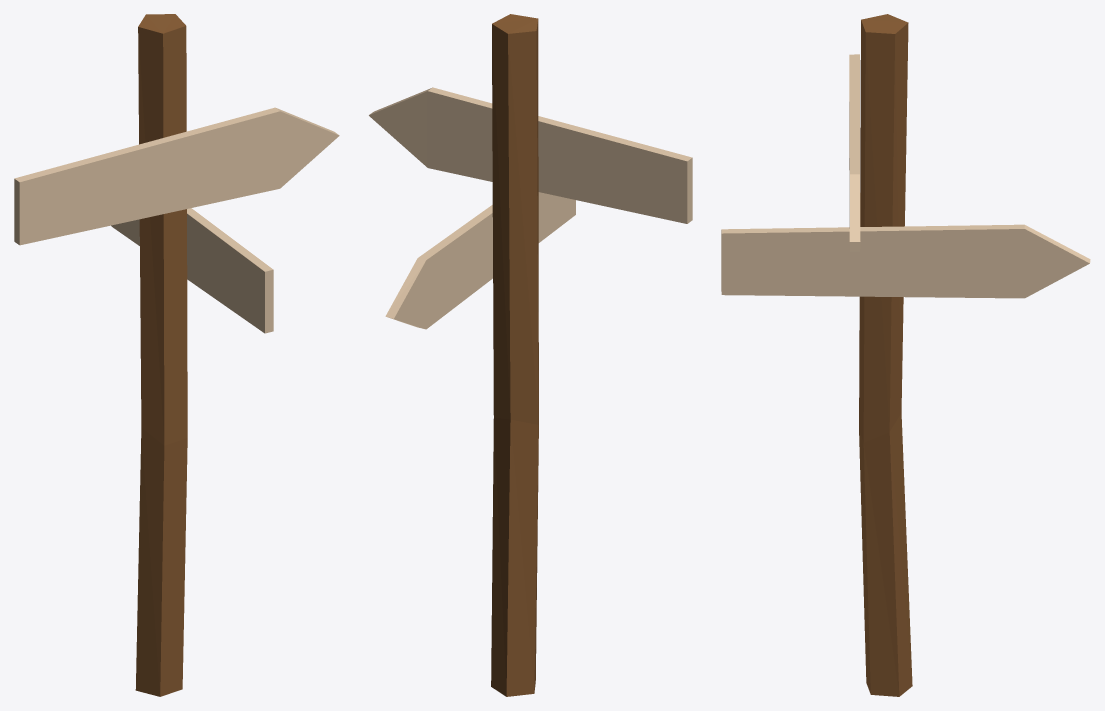
The model's file is sign3.obj.
3 renders of one model, left to right at view 1: azimuth 30°, elevation 25°; view 2: azimuth 150°, elevation 25°; view 3: azimuth 270°, elevation 25°, orthographic.
Visible parts, largest first — view 1: Object.1, Object.2, Object.3; view 2: Object.1, Object.2, Object.3; view 3: Object.1, Object.3, Object.2.
Boxes of the visible parts, x1,y1,x2,y2 form: Object.1: (135, 14, 187, 696); Object.2: (14, 107, 339, 245); Object.3: (111, 208, 273, 333); Object.1: (491, 14, 538, 696); Object.2: (369, 87, 692, 223); Object.3: (385, 192, 575, 329); Object.1: (859, 14, 912, 696); Object.3: (721, 224, 1090, 298); Object.2: (849, 54, 860, 251).
Size of the model in its own units: 1.01 by 2 by 1.01.
